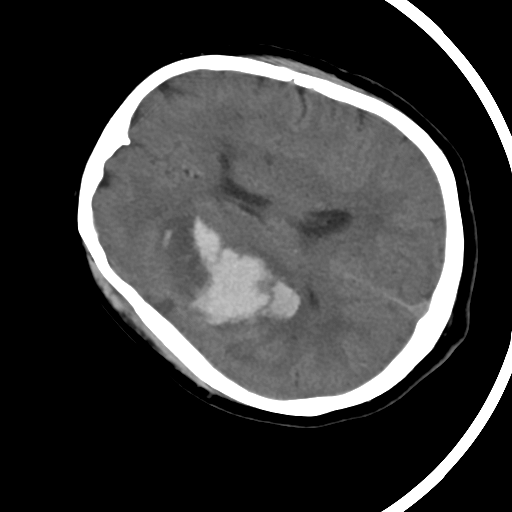a: (152, 200, 316, 338)
